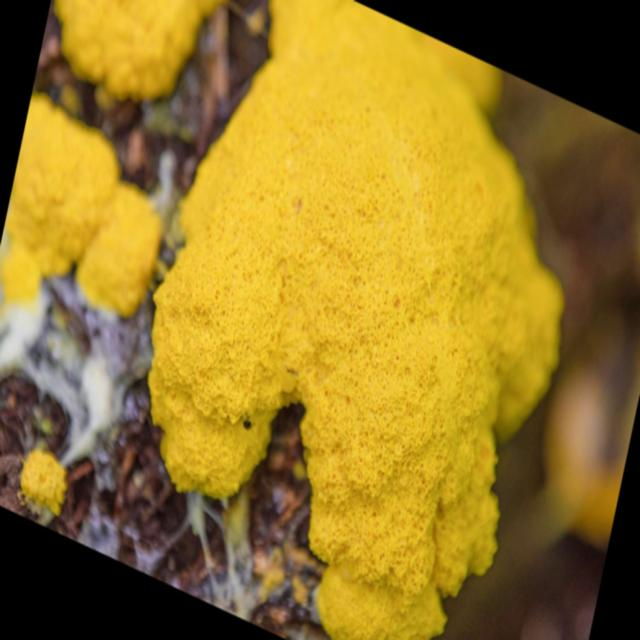Dog_vomit_slime_mold: (11, 0, 600, 640)
